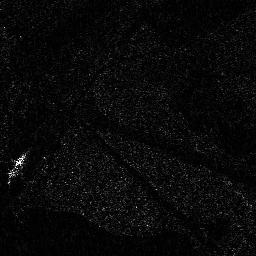ship: (7, 150, 29, 178)
